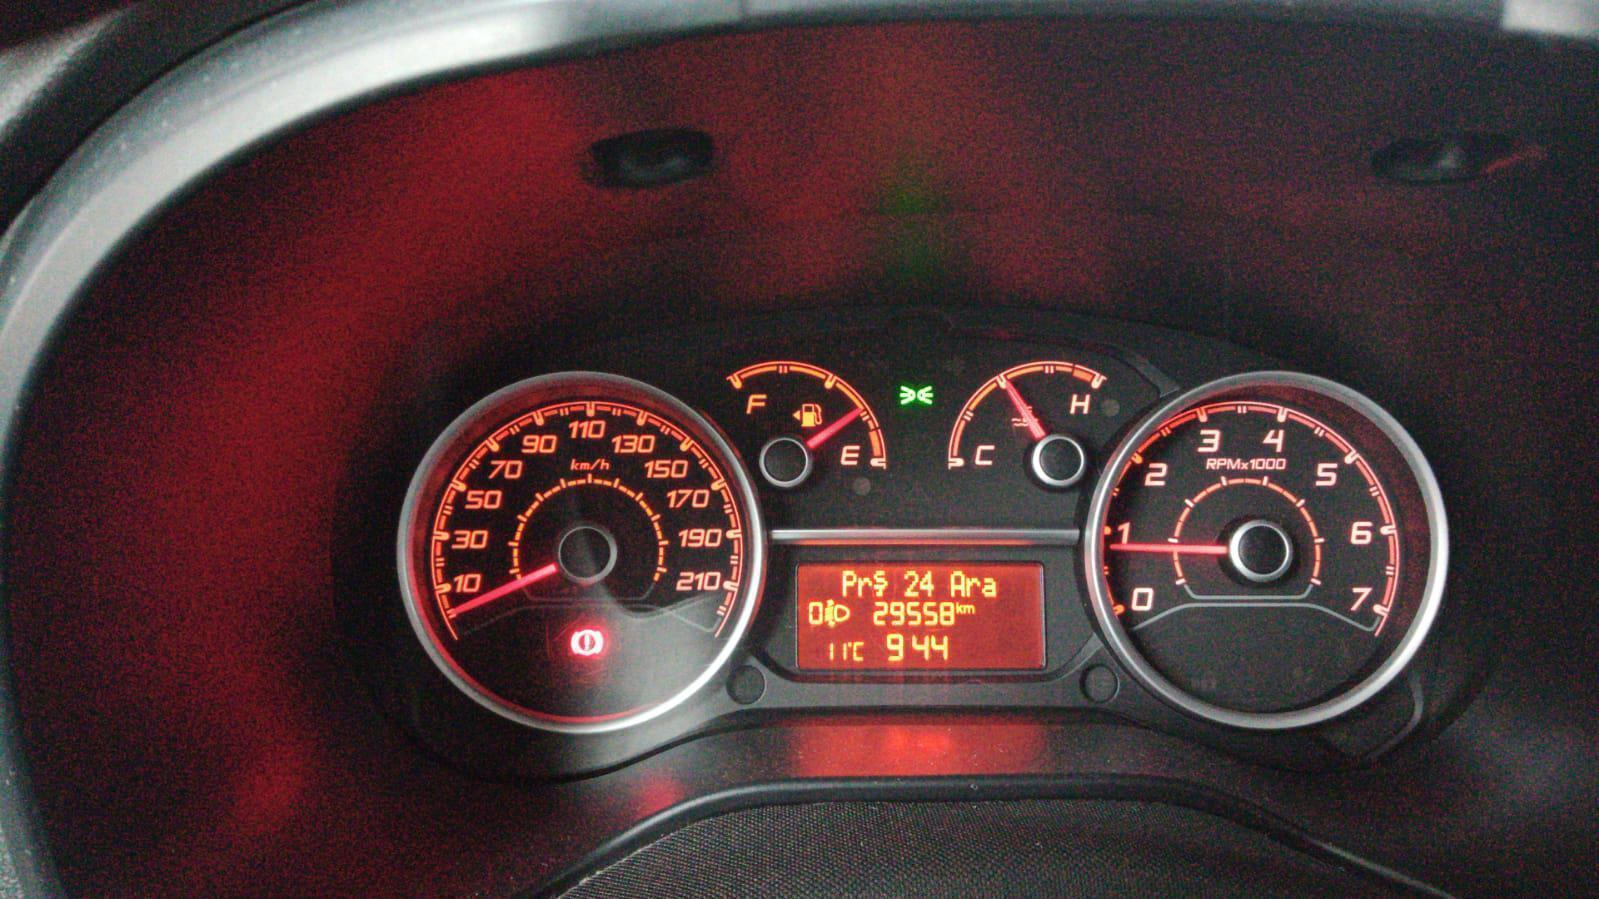0: (807, 599, 824, 627)
1: (827, 640, 835, 663), (842, 640, 847, 663)
2: (901, 568, 918, 598), (873, 600, 887, 627)
4: (929, 633, 950, 661), (910, 632, 929, 662), (920, 569, 935, 598)
5: (906, 600, 921, 626), (923, 600, 938, 625)
8: (939, 600, 954, 625)
9: (885, 631, 904, 661), (890, 600, 905, 626)
X: (950, 570, 965, 596), (873, 569, 887, 596), (851, 639, 866, 663), (842, 569, 856, 596), (983, 575, 998, 598), (856, 575, 871, 596), (966, 576, 979, 596), (963, 603, 975, 614), (957, 602, 963, 613)
odometer: (786, 557, 1053, 674)
